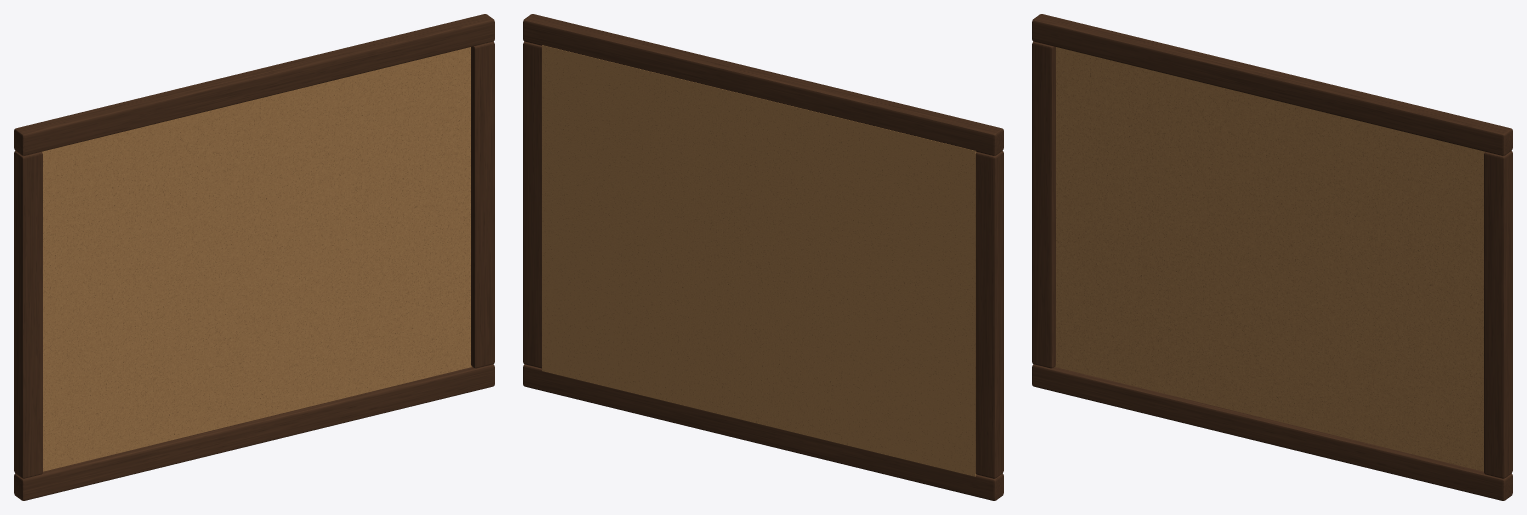
The model's file is SM_FS_PinBoard.glb.
3 views of the same model, side by side, from view 1: azimuth 30°, elevation 25°; view 2: azimuth 150°, elevation 25°; view 3: azimuth 330°, elevation 25° (orthographic).
Parts seen in each view (by area): view 1: SM_FS_PinBoard; view 2: SM_FS_PinBoard; view 3: SM_FS_PinBoard.
Boxes of the visible parts, <box> form: SM_FS_PinBoard: <box>14,14,494,500</box>; SM_FS_PinBoard: <box>523,14,1003,500</box>; SM_FS_PinBoard: <box>1032,14,1512,500</box>.
Bounding box in the file's own units: 0.62 × 0.46 × 0.022.
Materials: 1 (1 with a texture image).
